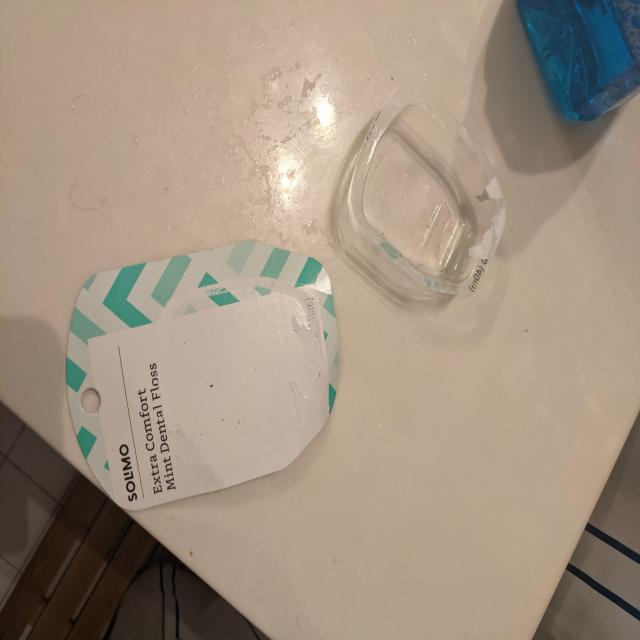litter: (59, 68, 516, 521)
